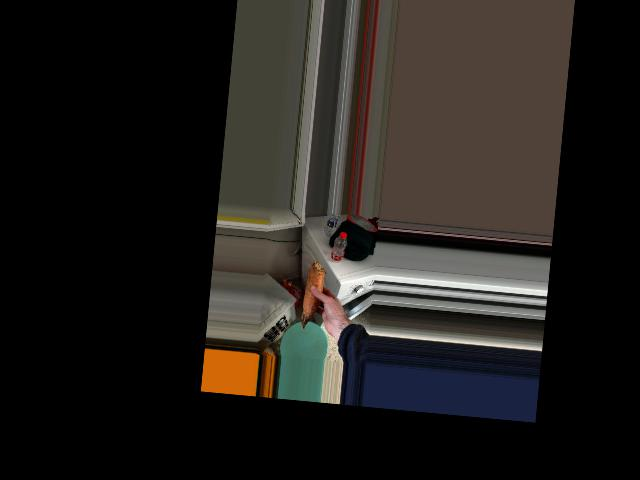sweet_potato: (302, 258, 323, 330)
